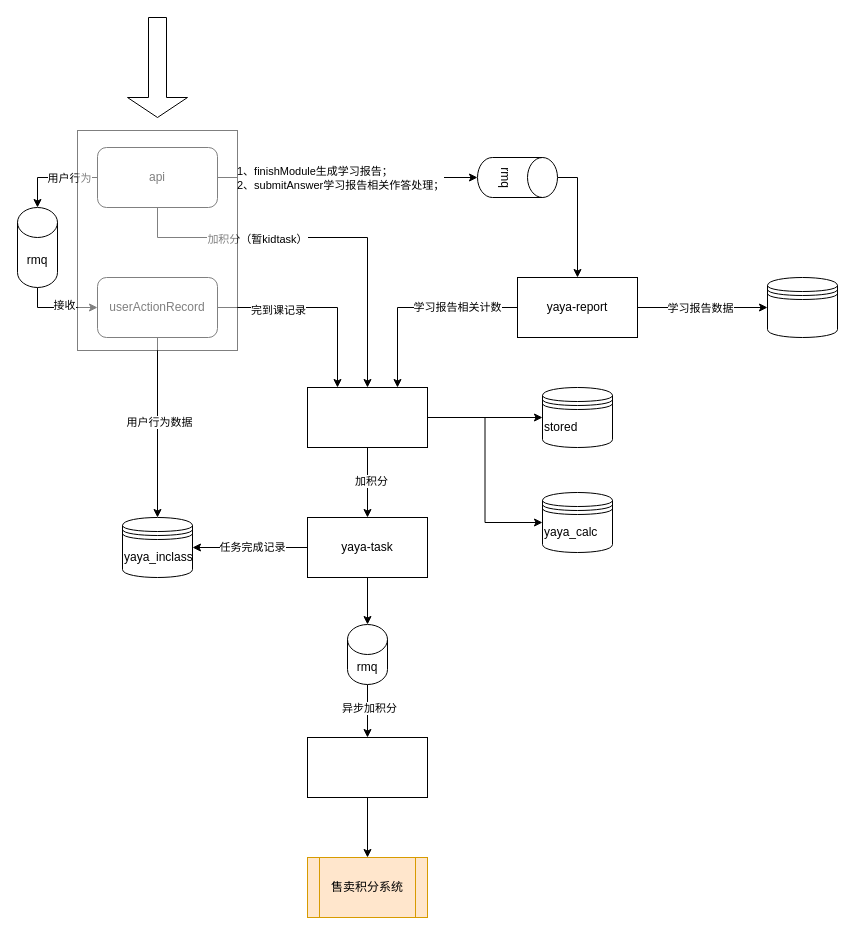
Image size: 855x935. Some labels were removed from this diagram. The shapes that lost their labels are listed below. From the top down, each one's centre as x and y in pixels, then its label:
At [157,67]: "入 口".
At [157,240]: "yaya-user-inclass".
At [802,307]: "yaya_report".
At [367,417]: "yaya-calc".
At [367,767]: "kidintegralinner".
